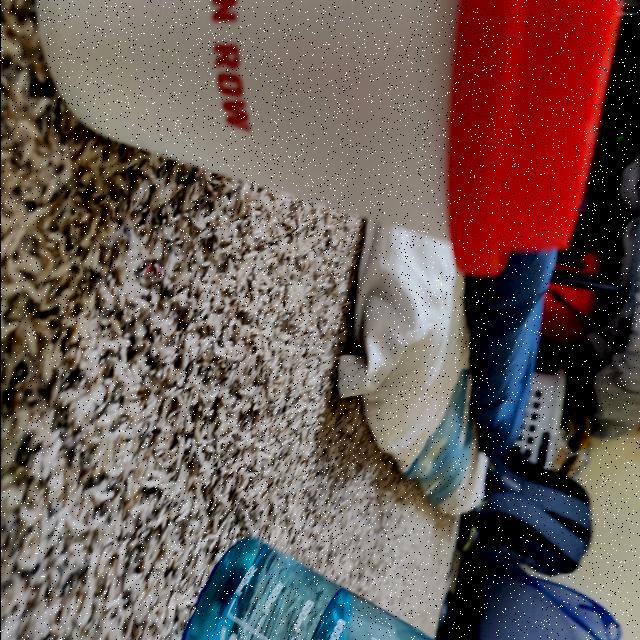mug: (55, 0, 618, 272)
